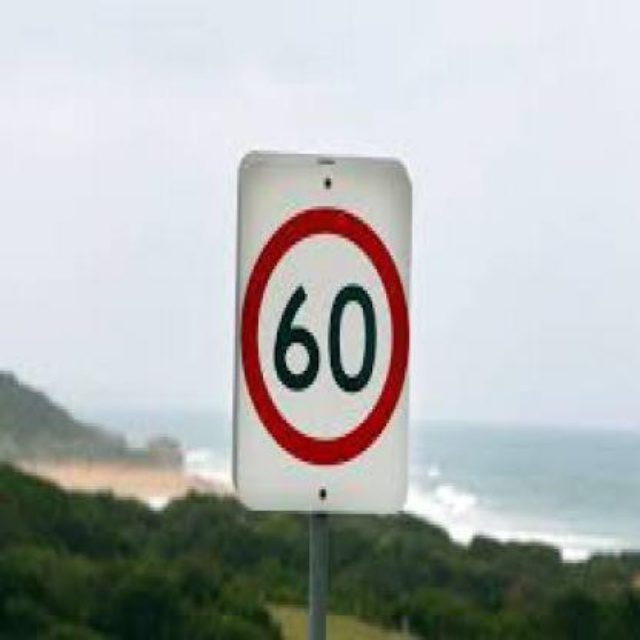Tốc độ tối đa cho phép 80km/h: (252, 212, 402, 459)
